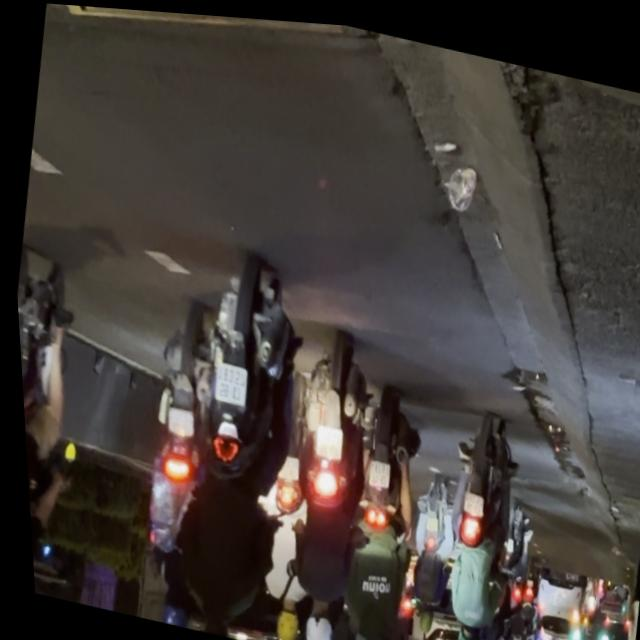helmet: (148, 580, 188, 627), (290, 598, 331, 640), (264, 598, 295, 640), (346, 618, 383, 640), (190, 616, 226, 635)
licenseplate: (144, 240, 325, 640), (250, 320, 390, 640), (109, 294, 233, 629), (11, 240, 99, 600), (315, 377, 435, 640)
nohelmet: (206, 360, 246, 405), (307, 421, 339, 458), (160, 406, 190, 437), (359, 455, 386, 486)
